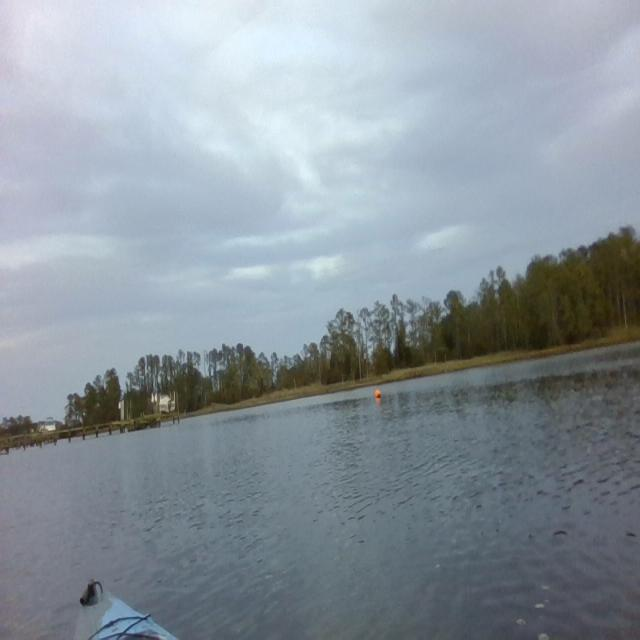Buoy: (374, 385, 384, 404)
